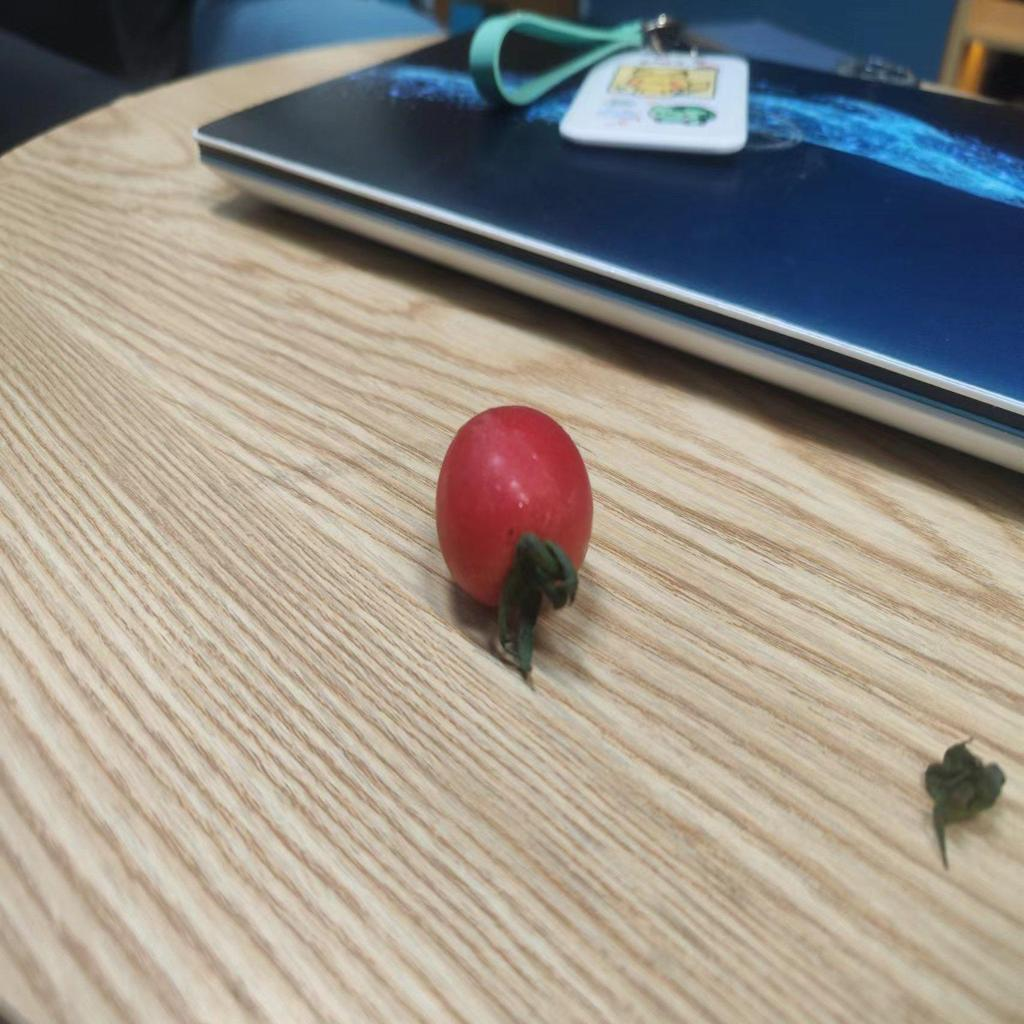tomato: (429, 396, 597, 637)
